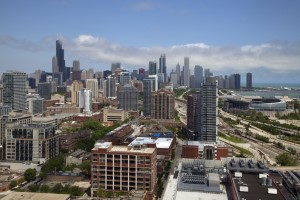willis: (54, 29, 67, 71)
